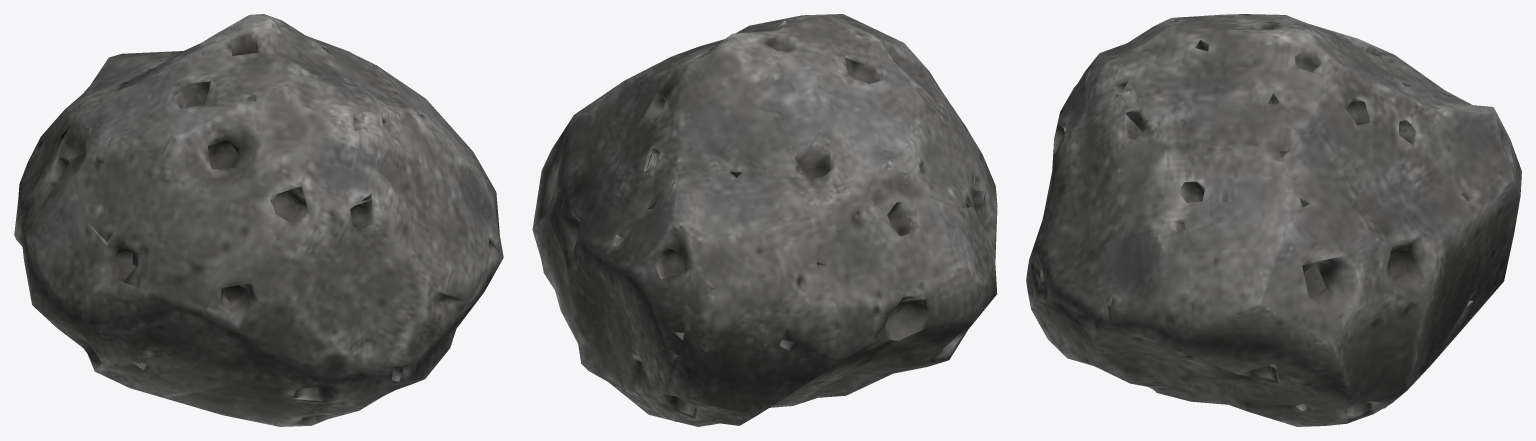
Rendered from rock_94581385_lod0.glb.
The picture shows the model from 3 angles, left to right: view 1: azimuth 30°, elevation 25°; view 2: azimuth 150°, elevation 25°; view 3: azimuth 270°, elevation 25°; orthographic projection.
Bounding box in the file's own units: 2.4 × 1.86 × 2.35.
1 material, 1 textured.
